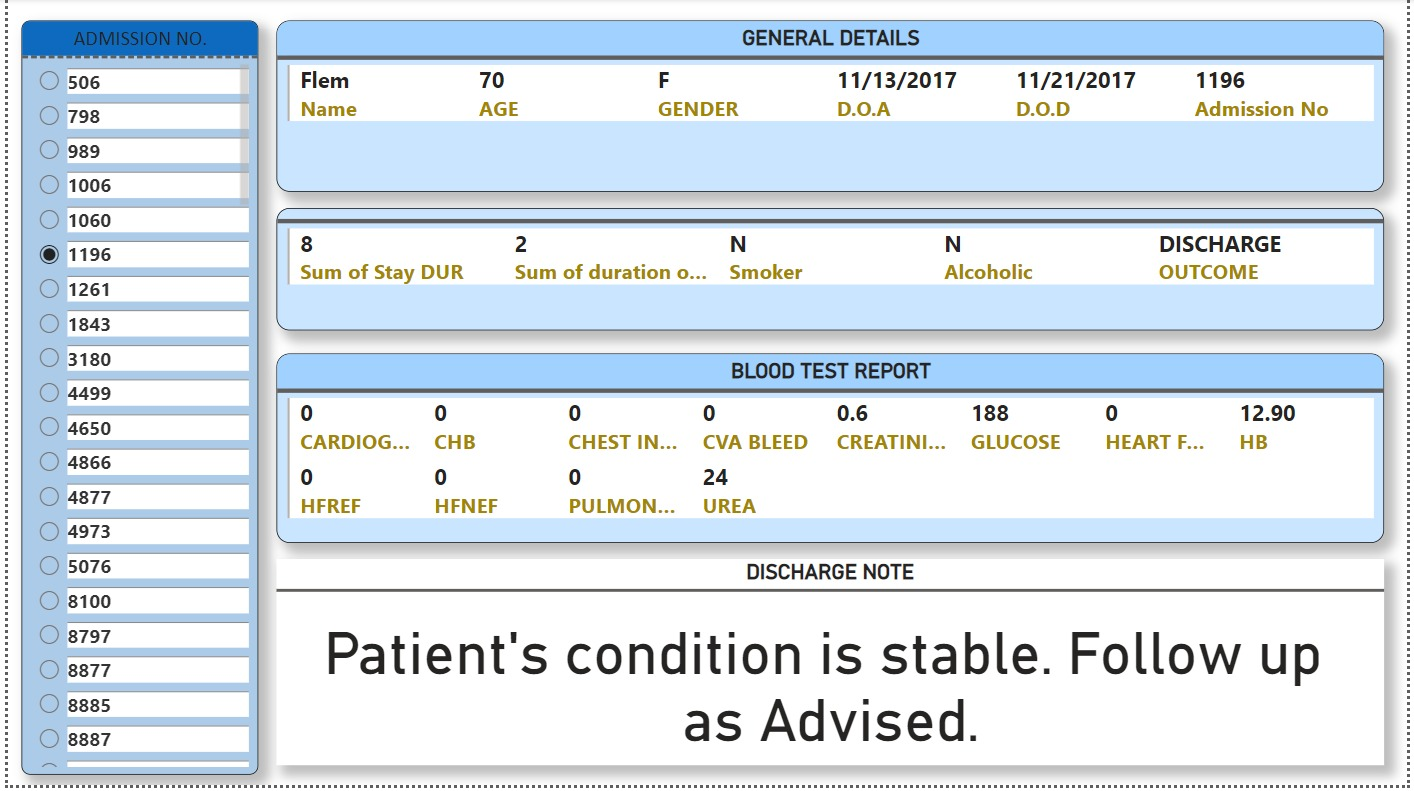

What the dashboard file says about the page in this screenshot:
{"tool":"powerbi","page":{"name":"patient database","canvas":[1280,720],"ordinal":3},"visuals":[{"type":"slicer","title":"ADMISSION NO.","fields":{"Values":["Master Data.Admission Num"]},"box":[11.7,20,216.7,690],"z":0},{"type":"multiRowCard","title":"GENERAL DETAILS ","fields":{"Values":["Master Data.Name","HDHI Admission data.AGE","HDHI Admission data.GENDER","HDHI Admission data.D.O.A","HDHI Admission data.D.O.D","HDHI Admission data.Admission No"]},"box":[245,20,1013.3,156.7],"z":1000},{"type":"multiRowCard","fields":{"Values":["Sum(HDHI Admission data.Stay DUR)","Sum(HDHI Admission data.duration of intensive unit stay)","HDHI Admission data.Smoker","HDHI Admission data.Alcoholic","HDHI Admission data.OUTCOME"]},"box":[245,191.7,1013.3,111.7],"z":2000},{"type":"multiRowCard","title":"BLOOD TEST REPORT ","fields":{"Values":["HDHI Admission data.CARDIOGENIC SHOCK","HDHI Admission data.CHB","HDHI Admission data.CHEST INFECTION","HDHI Admission data.CVA BLEED","HDHI Admission data.CREATININE","HDHI Admission data.GLUCOSE","HDHI Admission data.HEART FAILURE","HDHI Admission data.HB","HDHI Admission data.HFREF","HDHI Admission data.HFNEF","HDHI Admission data.PULMONARY EMBOLISM","HDHI Admission data.UREA"]},"box":[245,325,1013.3,173.3],"z":3000},{"type":"card","title":"DISCHARGE NOTE","fields":{"Values":["Min(HDHI Admission data.DOCTORS NOTE)"]},"box":[245,513.3,1013.3,188.3],"z":4000}]}

Visuals, with their boxes in screenshot pixels (x1, y1, x2, y2), scaled from the page's 1280x720 canvas onto the 1414x791 screenshot:
"ADMISSION NO." slicer: l=13, t=22, r=252, b=780
"GENERAL DETAILS " multiRowCard: l=271, t=22, r=1390, b=194
multiRowCard - Sum(HDHI Admission data.Stay DUR) x Sum(HDHI Admission data.duration of intensive unit stay): l=271, t=211, r=1390, b=333
"BLOOD TEST REPORT " multiRowCard: l=271, t=357, r=1390, b=547
"DISCHARGE NOTE" card: l=271, t=564, r=1390, b=771
